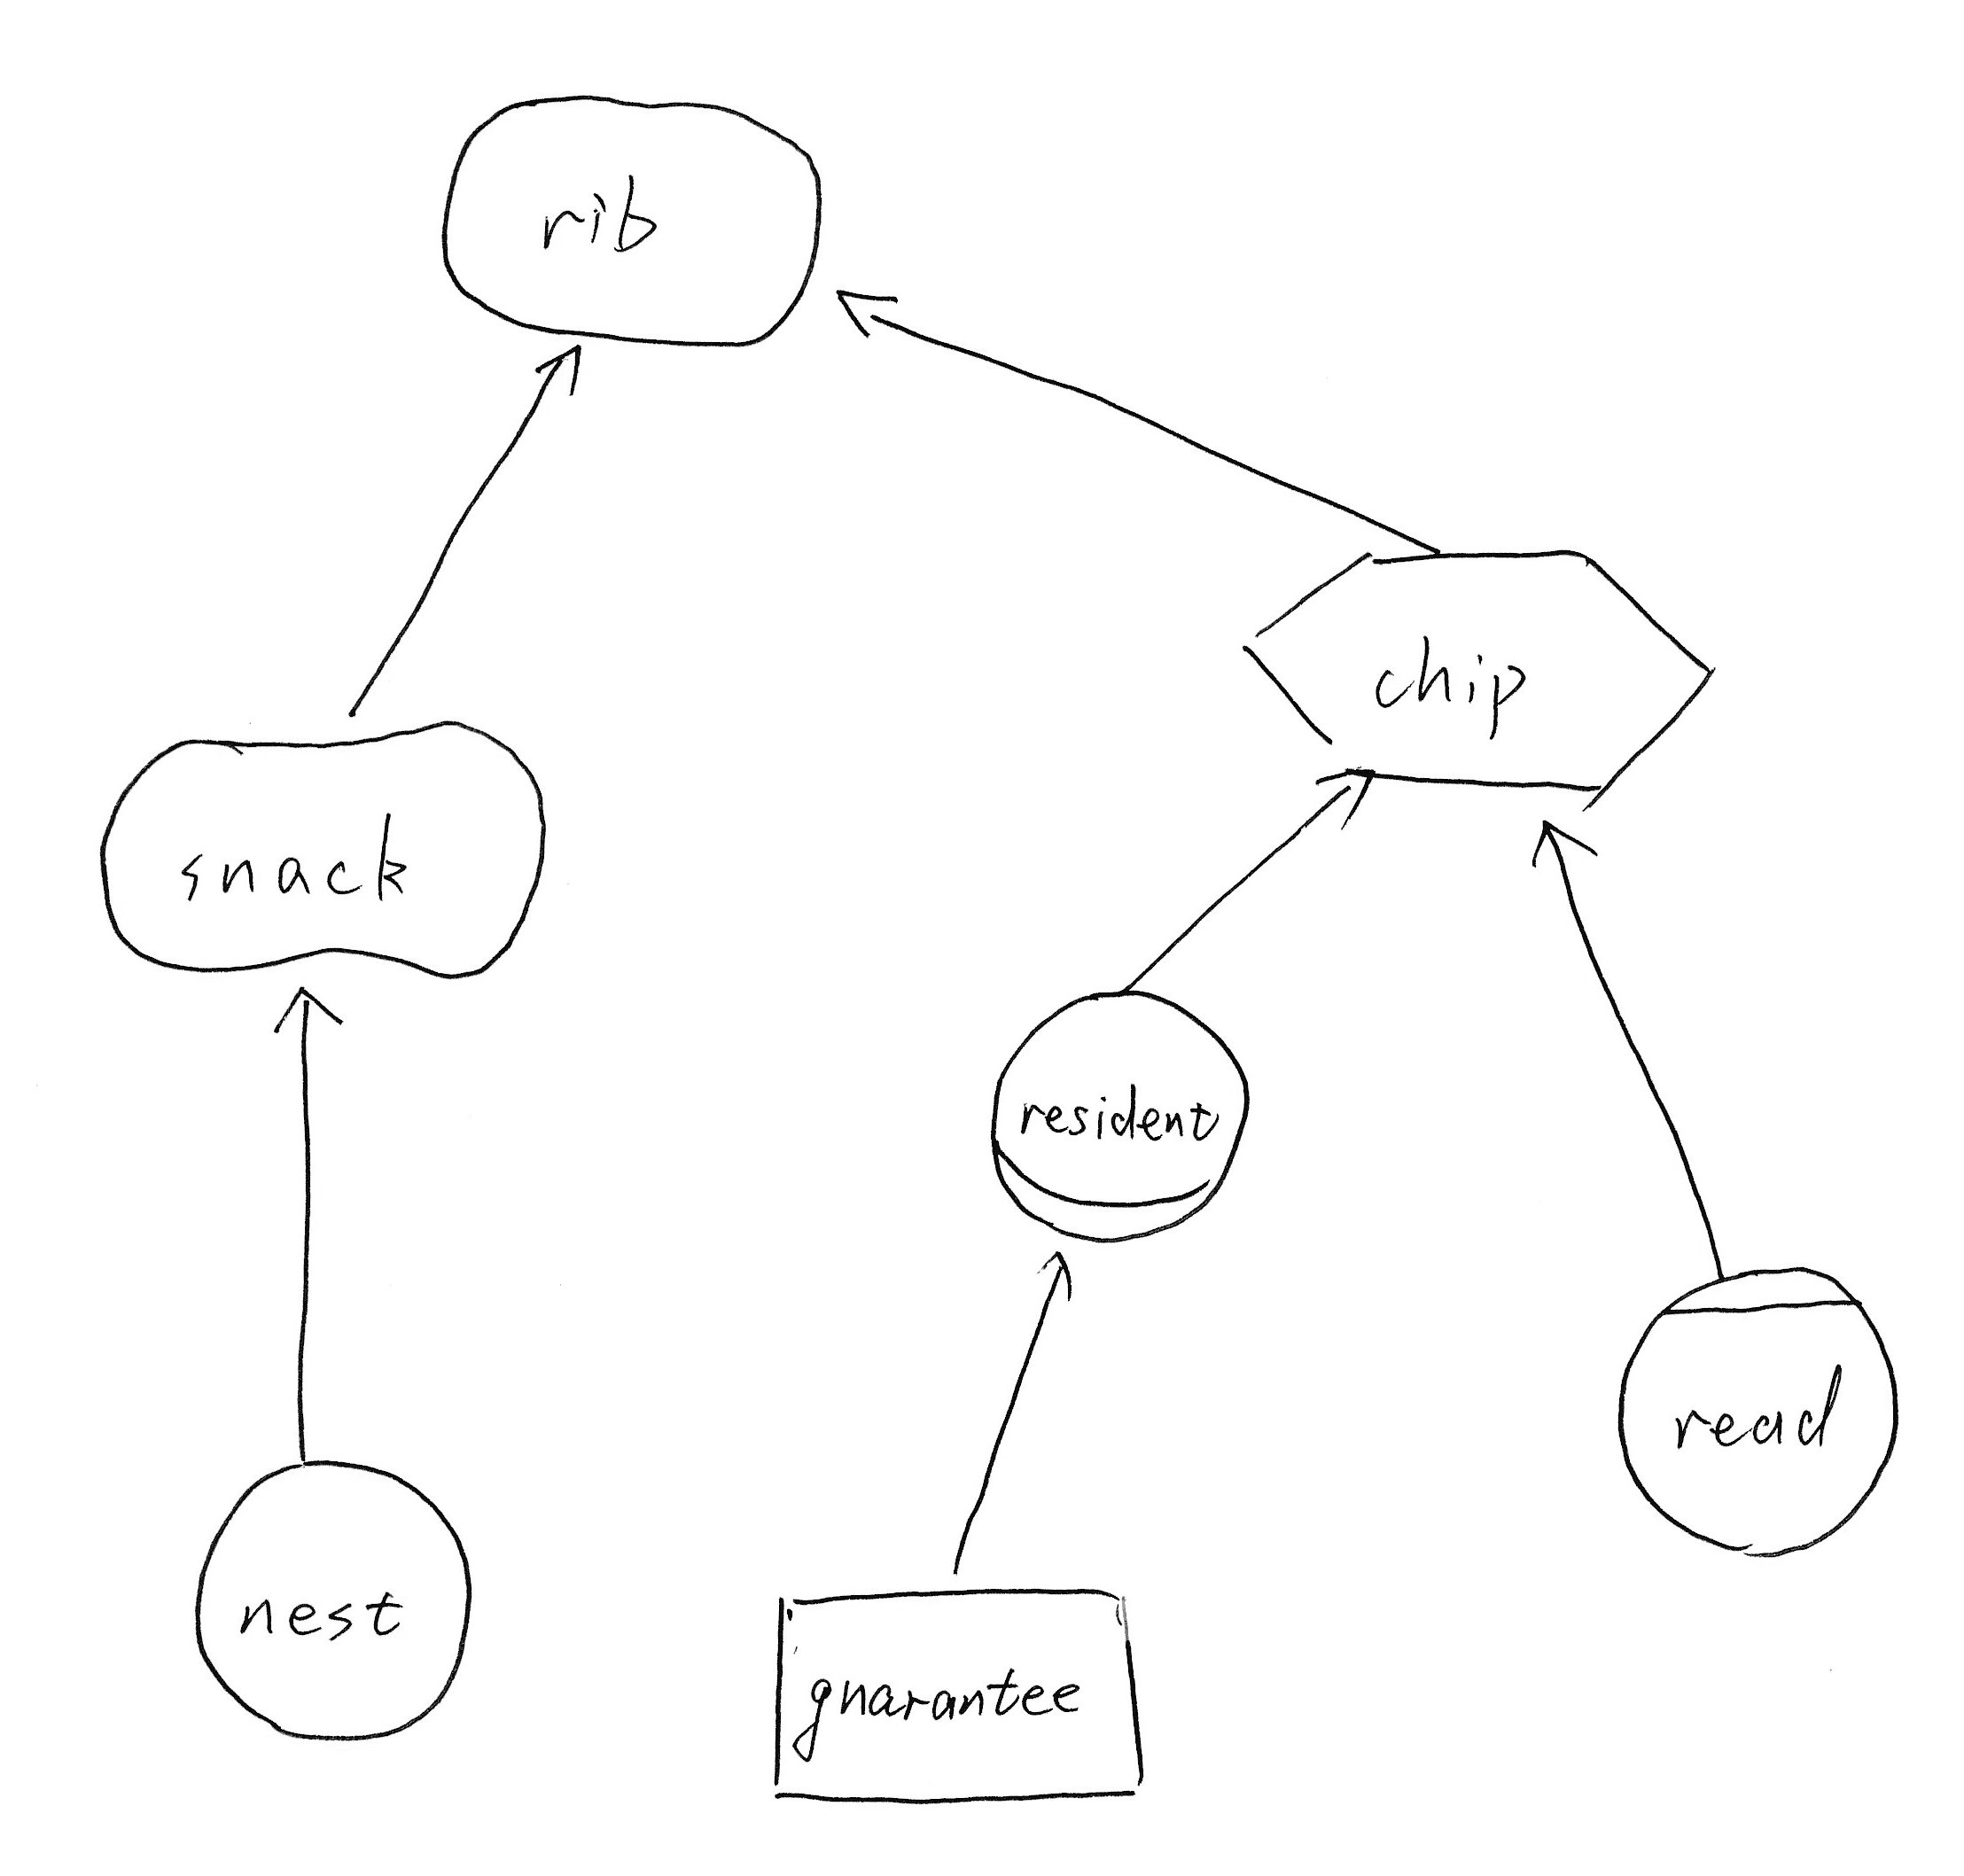actor: (177, 1438, 493, 1753)
agent: (1589, 1245, 1924, 1574)
arrow: (1505, 801, 1613, 884), (821, 266, 917, 356), (1291, 757, 1389, 842), (254, 973, 351, 1052), (1014, 1234, 1089, 1315), (521, 333, 596, 405)
goal: (424, 75, 836, 373)
quality: (84, 701, 559, 994)
resource: (747, 1573, 1180, 1822)
role: (971, 970, 1261, 1261)
task: (1224, 533, 1733, 812)
